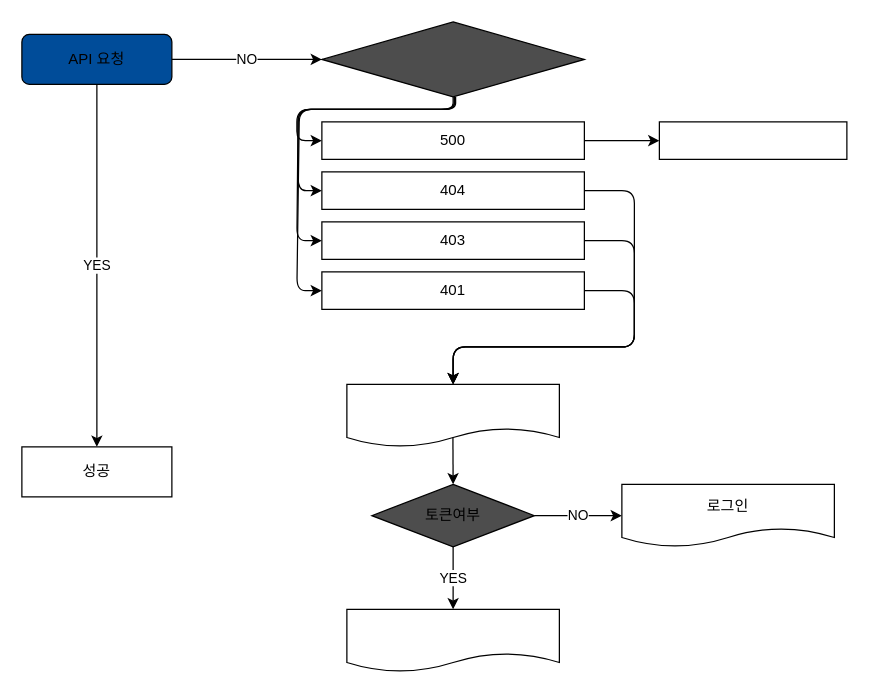
Some shapes in this 869 by 694 pixel diagram are drawn without their labels. Here are the shapes that lost their labels. From the top down, the box of each, then its label:
(321, 21, 584, 97): 에러 코드 분류 401, 403, 404, 500
(658, 121, 847, 159): Dialog표기
(346, 383, 559, 447): 에러페이지
(346, 608, 559, 672): 메인 페이지
